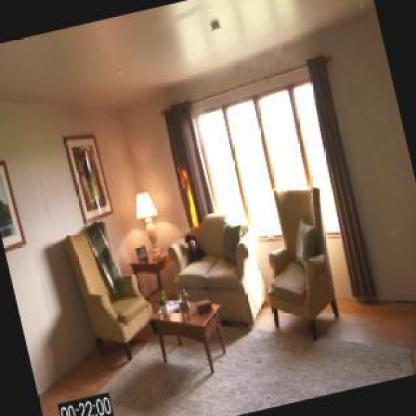Fire: (173, 162, 201, 228)
